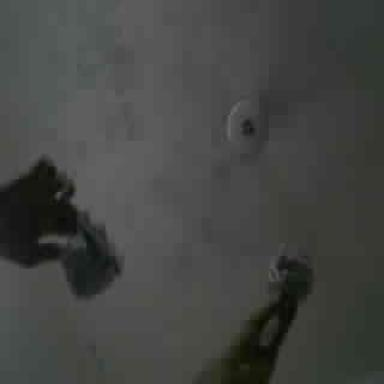paper: (65, 214, 121, 296), (269, 249, 316, 306)
